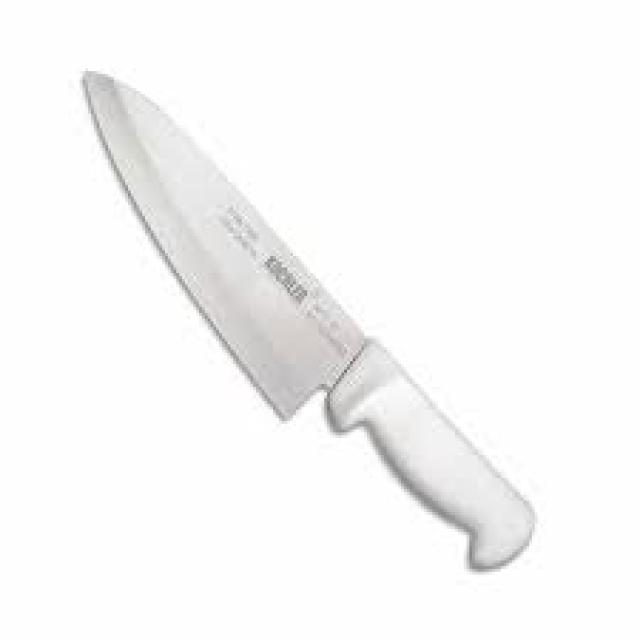knives: (71, 62, 541, 578)
